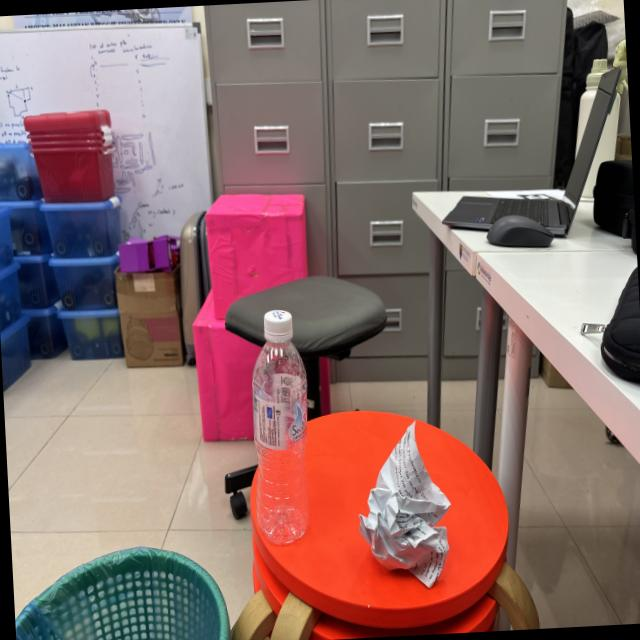crumpled_paper: (346, 409, 466, 599)
plastic_bottle: (242, 296, 322, 560)
